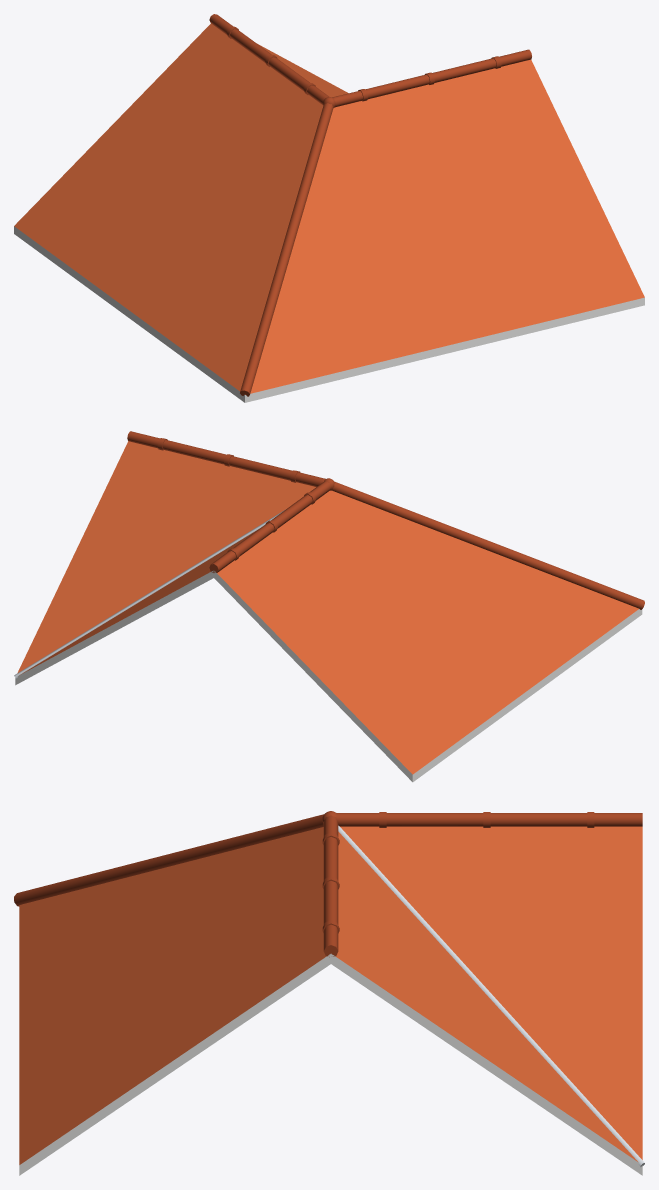
File: telhado_canto_l_v6_i75.glb
The picture shows the model from 3 angles, top to bottom: view 1: azimuth 30°, elevation 25°; view 2: azimuth 150°, elevation 25°; view 3: azimuth 270°, elevation 25°; orthographic projection. The views are drawn at different scales.
Visible parts, largest first — view 1: telhado_canto_l_v6_i75; view 2: telhado_canto_l_v6_i75; view 3: telhado_canto_l_v6_i75.
Boxes of the visible parts, x1,y1,x2,y2 form: telhado_canto_l_v6_i75: (14, 14, 644, 402); telhado_canto_l_v6_i75: (14, 431, 644, 782); telhado_canto_l_v6_i75: (14, 811, 644, 1175).
Bounding box in the file's own units: 6.07 × 2.47 × 6.07.
4 materials, 1 textured.
